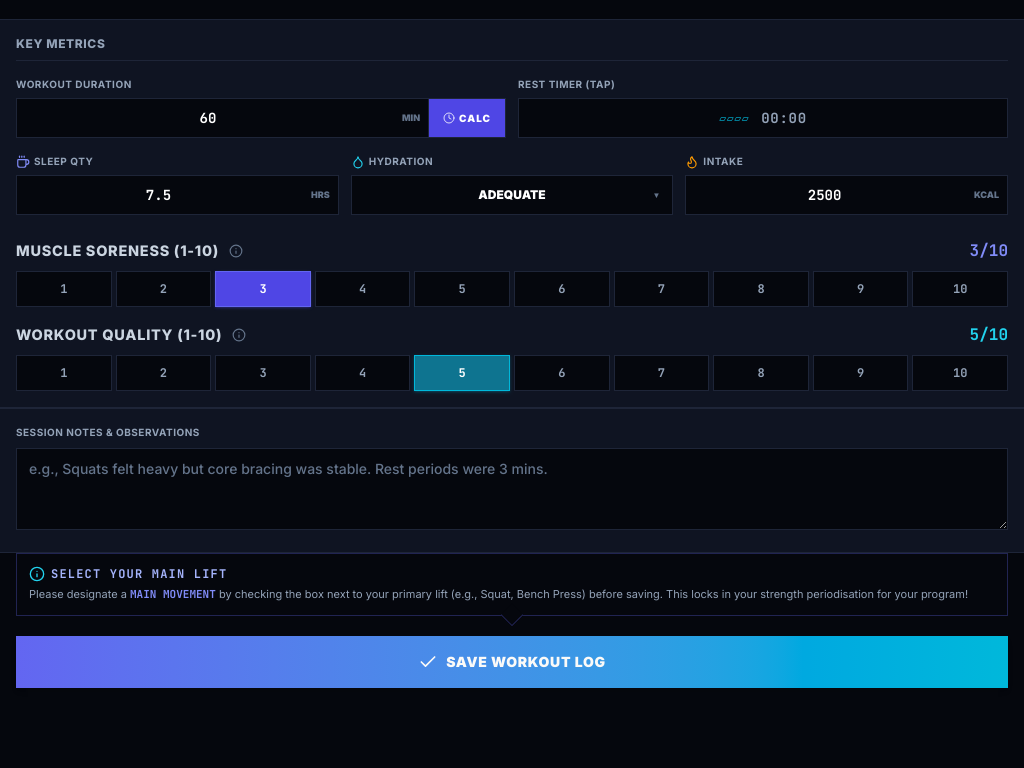
Test case: WorkoutLogger Strength Main Movement Save Validation Regression › Scenario E: Strength with no Main Movement displays the warning dialog
The width and height of the screenshot is (1024, 768).
(page scrolled)
Click the button "Save Workout Log" at (512, 662), box 16,636 -> 1008,688
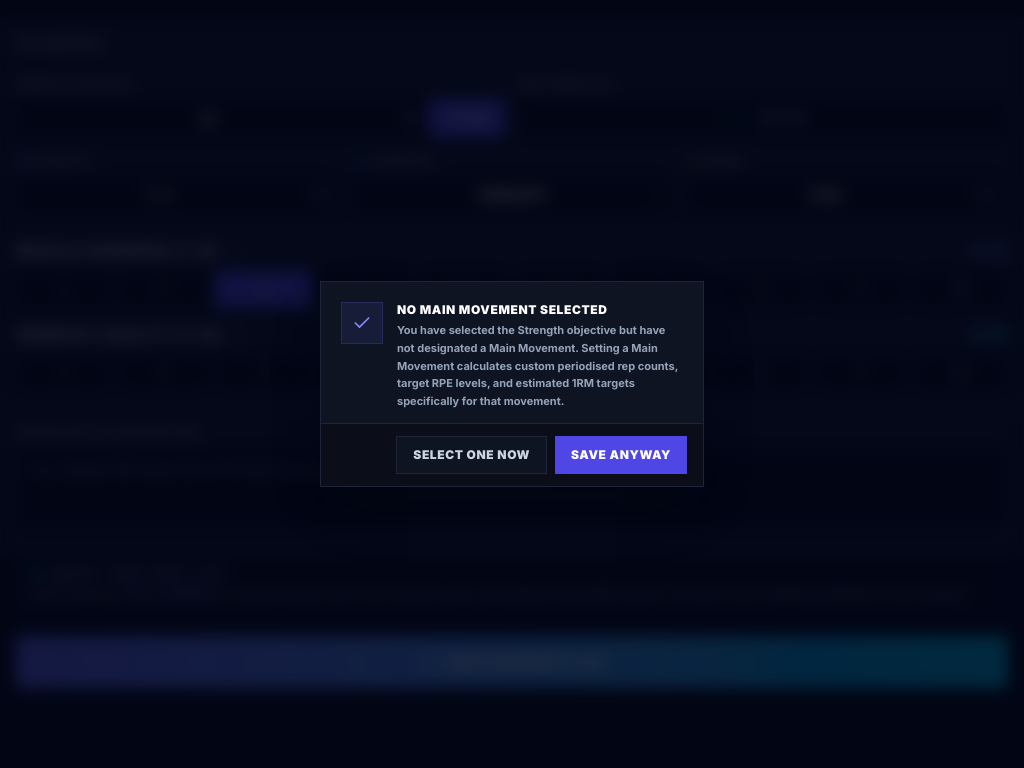
Expected: the heading "No Main Movement Selected" is shown, 397,302 -> 608,317
